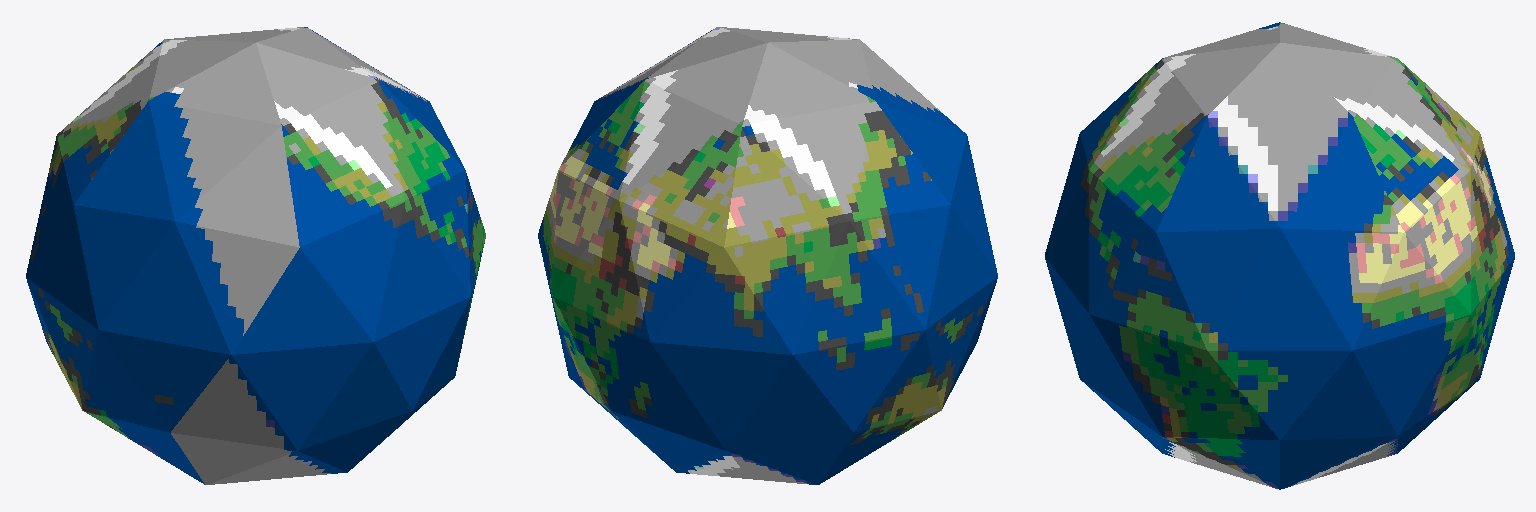
The picture shows the model from 3 angles: view 1: azimuth 30°, elevation 25°; view 2: azimuth 150°, elevation 25°; view 3: azimuth 270°, elevation 25°; orthographic projection.
Parts seen in each view (by area): view 1: earthico1_Icosphere; view 2: earthico1_Icosphere; view 3: earthico1_Icosphere.
Boxes of the visible parts, <box> form: earthico1_Icosphere: <box>26,27,485,484</box>; earthico1_Icosphere: <box>538,27,997,484</box>; earthico1_Icosphere: <box>1045,22,1514,489</box>.
Size of the model in its own units: 1.9 by 2 by 2.
1 materials, 1 textured.